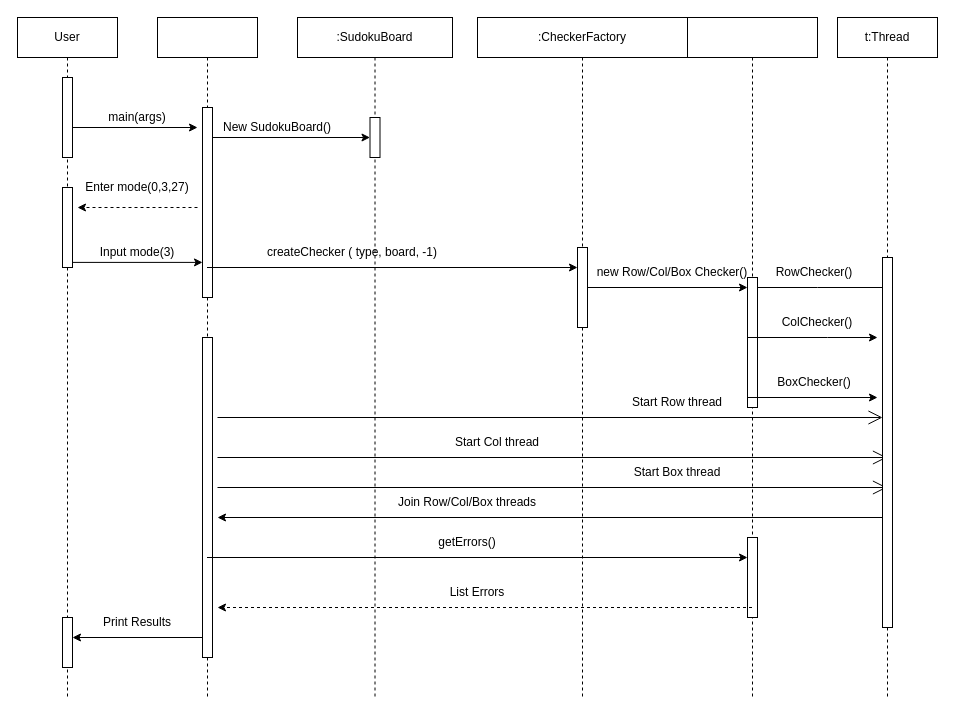
This 955x715 diagram has some shape labels left out. The box of each missing label's shape, as (x1, y1, x2, y2) in pixels:
:Main: (156, 16, 258, 698)
c:Checker: (686, 16, 818, 698)
